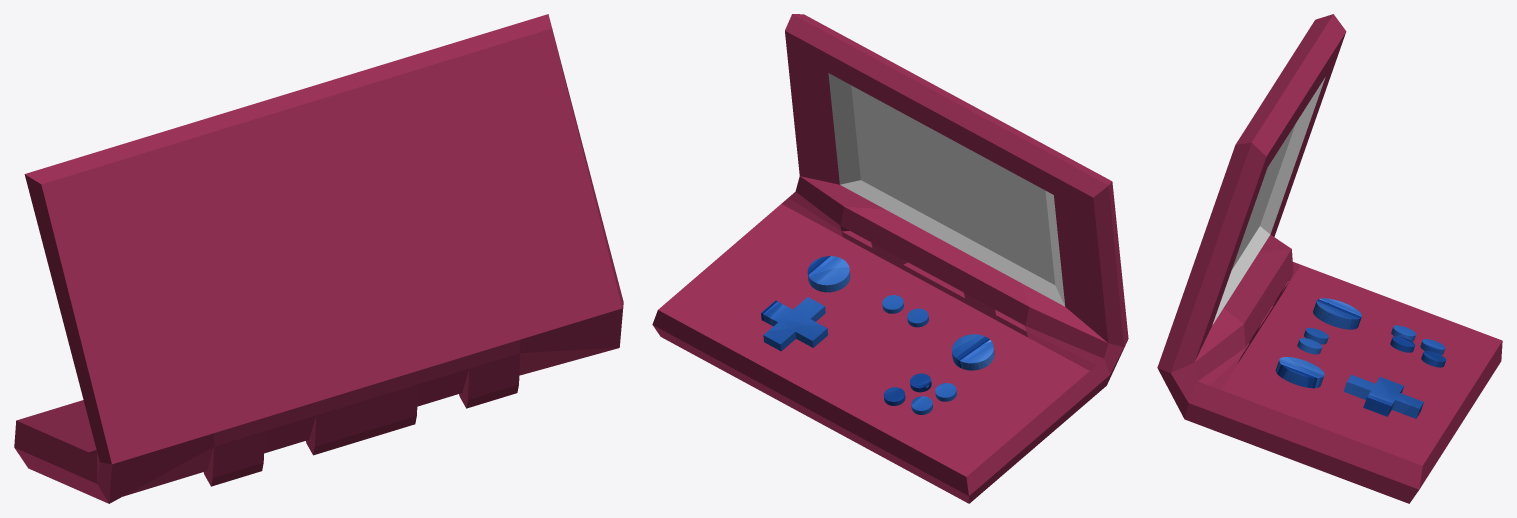
Rendered from GameConsole_Only.fbx.
3 views of the same model, side by side, from view 1: azimuth 30°, elevation 25°; view 2: azimuth 150°, elevation 25°; view 3: azimuth 270°, elevation 25° (orthographic). The views are drawn at different scales.
Visible parts, largest first — view 1: GameConsole; view 2: GameConsole; view 3: GameConsole.
Part boxes in pixels (x1,y1,x2,y2): GameConsole: (14, 14, 623, 503); GameConsole: (652, 14, 1128, 503); GameConsole: (1157, 14, 1502, 503).
Bounding box in the file's own units: 133 × 105 × 83.47.
Materials: 3 (1 with a texture image).
